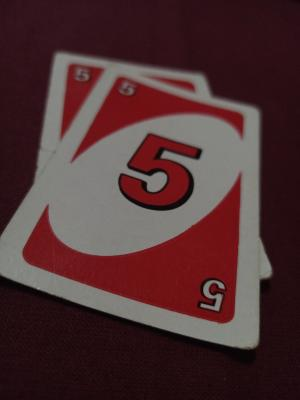num_5: (71, 58, 97, 90), (116, 78, 144, 103)
